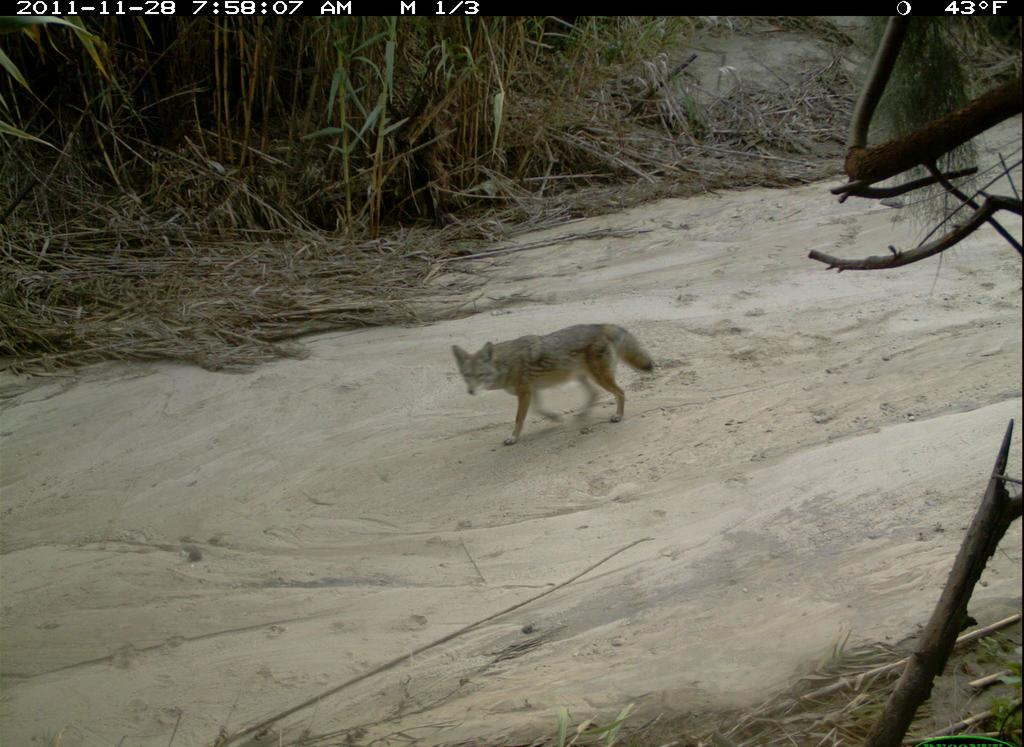coyote: (451, 321, 661, 455)
